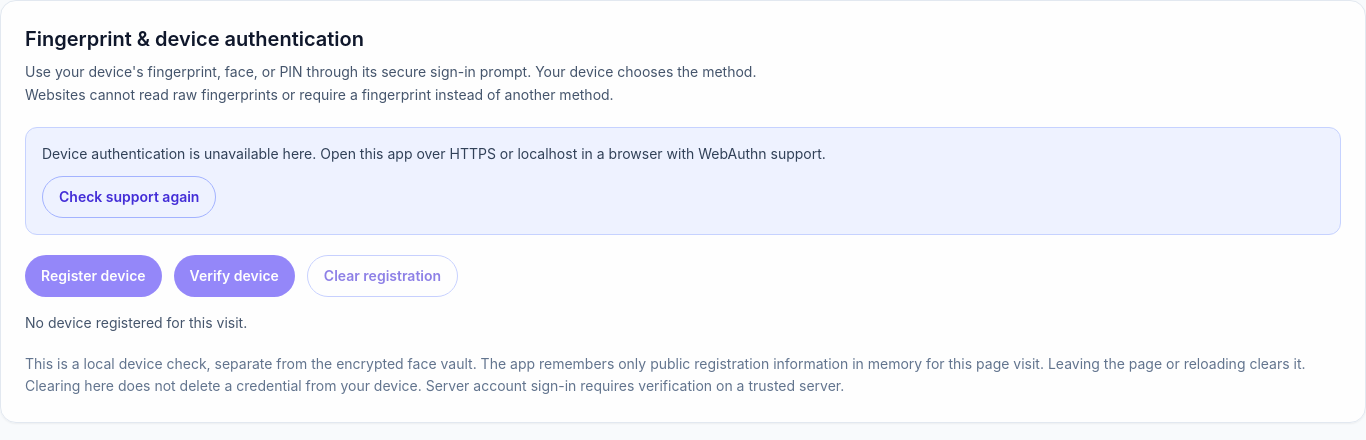
shows unsupported state and allows checking again
Expected: the text "Open this app over HTTPS" is shown, [42,144,826,162]
Expected: the button "Register device" is disabled, [25,254,162,296]
Step 1. Click the button "Check support again" → click(129, 196), box [42,176,216,218]
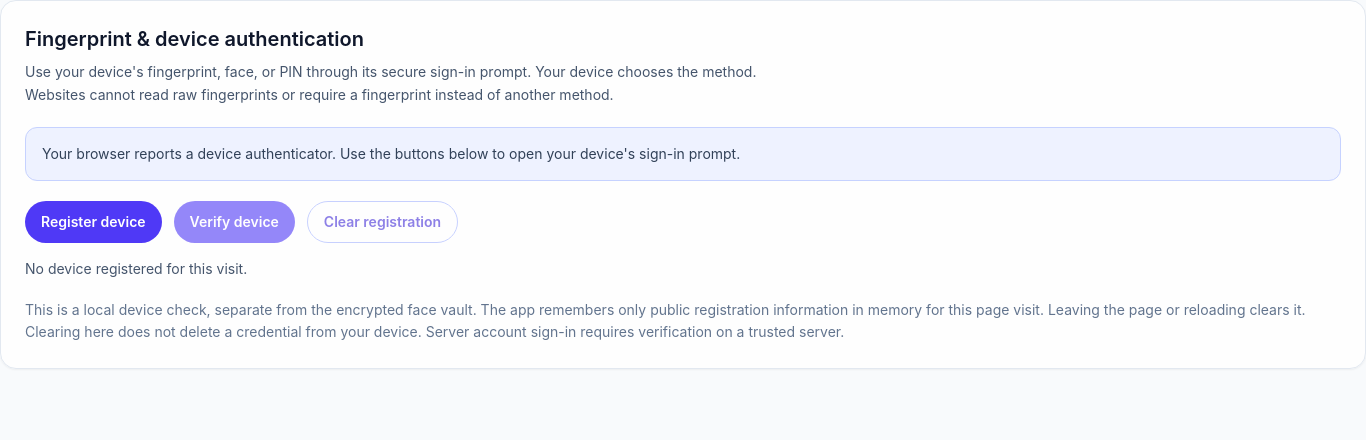
Result: the text "Your browser reports a device authenticator" is shown at [42,144,740,162]
Result: the button "Register device" is enabled at [25,200,162,242]
